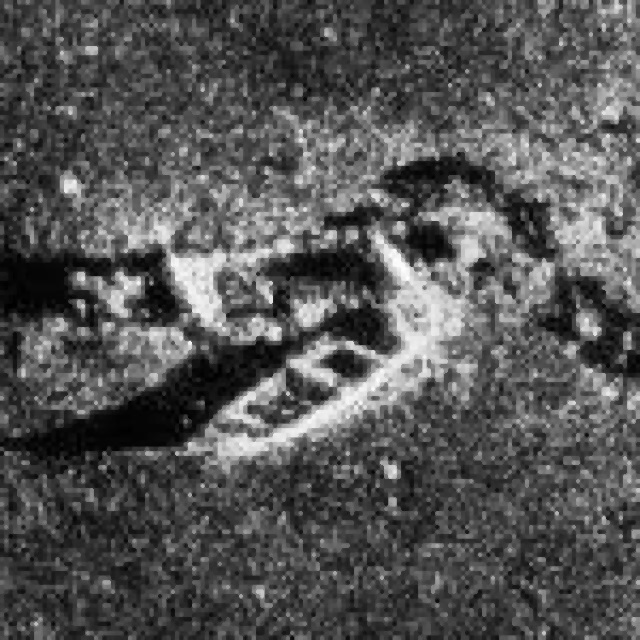Ship: (169, 224, 469, 469)
